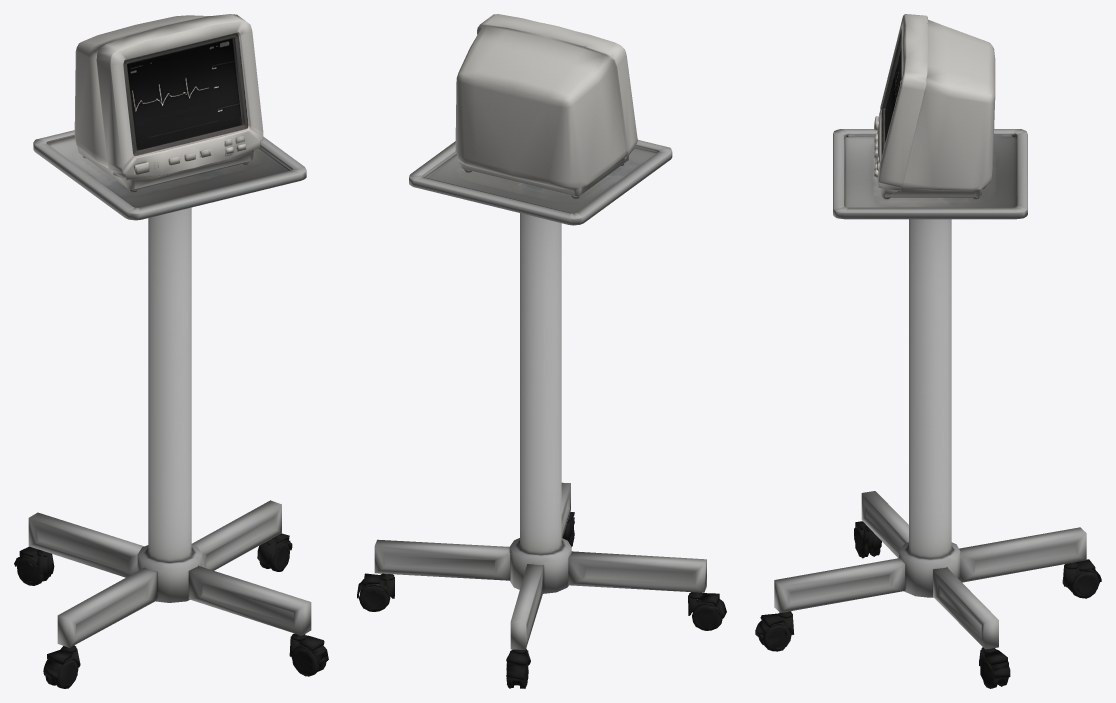
Rendered from upa_monitor.glb.
The picture shows the model from 3 angles, left to right: view 1: azimuth 30°, elevation 25°; view 2: azimuth 150°, elevation 25°; view 3: azimuth 270°, elevation 25°; orthographic projection. The views are drawn at different scales.
Visible parts, largest first — view 1: Off White ECG Cart; view 2: Off White ECG Cart; view 3: Off White ECG Cart.
Boxes of the visible parts, <box> form: Off White ECG Cart: <box>14,14,328,688</box>; Off White ECG Cart: <box>357,14,726,688</box>; Off White ECG Cart: <box>755,14,1101,688</box>.
Bounding box in the file's own units: 0.8131 × 1.5 × 0.8131.
1 material, 1 textured.
